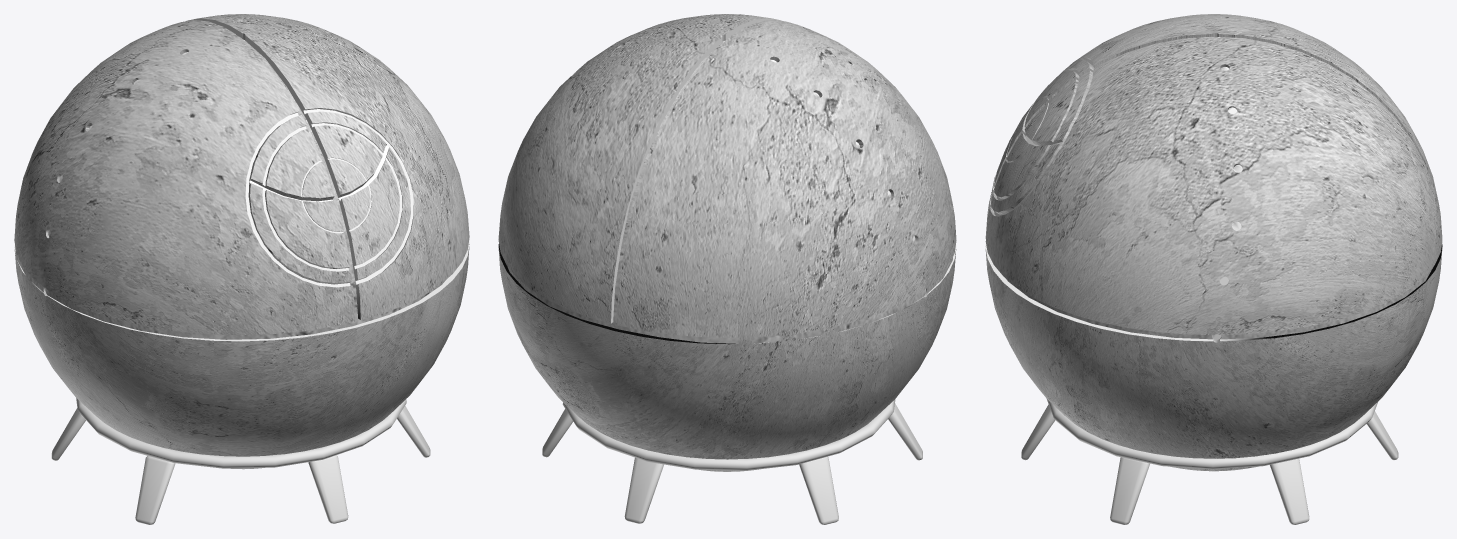
Rendered from Globo.fbx.
The picture shows the model from 3 angles, left to right: view 1: azimuth 30°, elevation 25°; view 2: azimuth 150°, elevation 25°; view 3: azimuth 270°, elevation 25°; orthographic projection.
Visible parts, largest first — view 1: Globo, Torus001; view 2: Globo, Torus001; view 3: Globo, Torus001.
Part boxes in pixels (left/top/right/bottom): Globo: left=14, top=14, right=469, bottom=469; Torus001: left=51, top=398, right=430, bottom=524; Globo: left=498, top=14, right=956, bottom=471; Torus001: left=542, top=399, right=922, bottom=524; Globo: left=985, top=14, right=1442, bottom=471; Torus001: left=1021, top=398, right=1398, bottom=524.
Bounding box in the file's own units: 196 × 199 × 196.
Materials: 2 (1 with a texture image).
